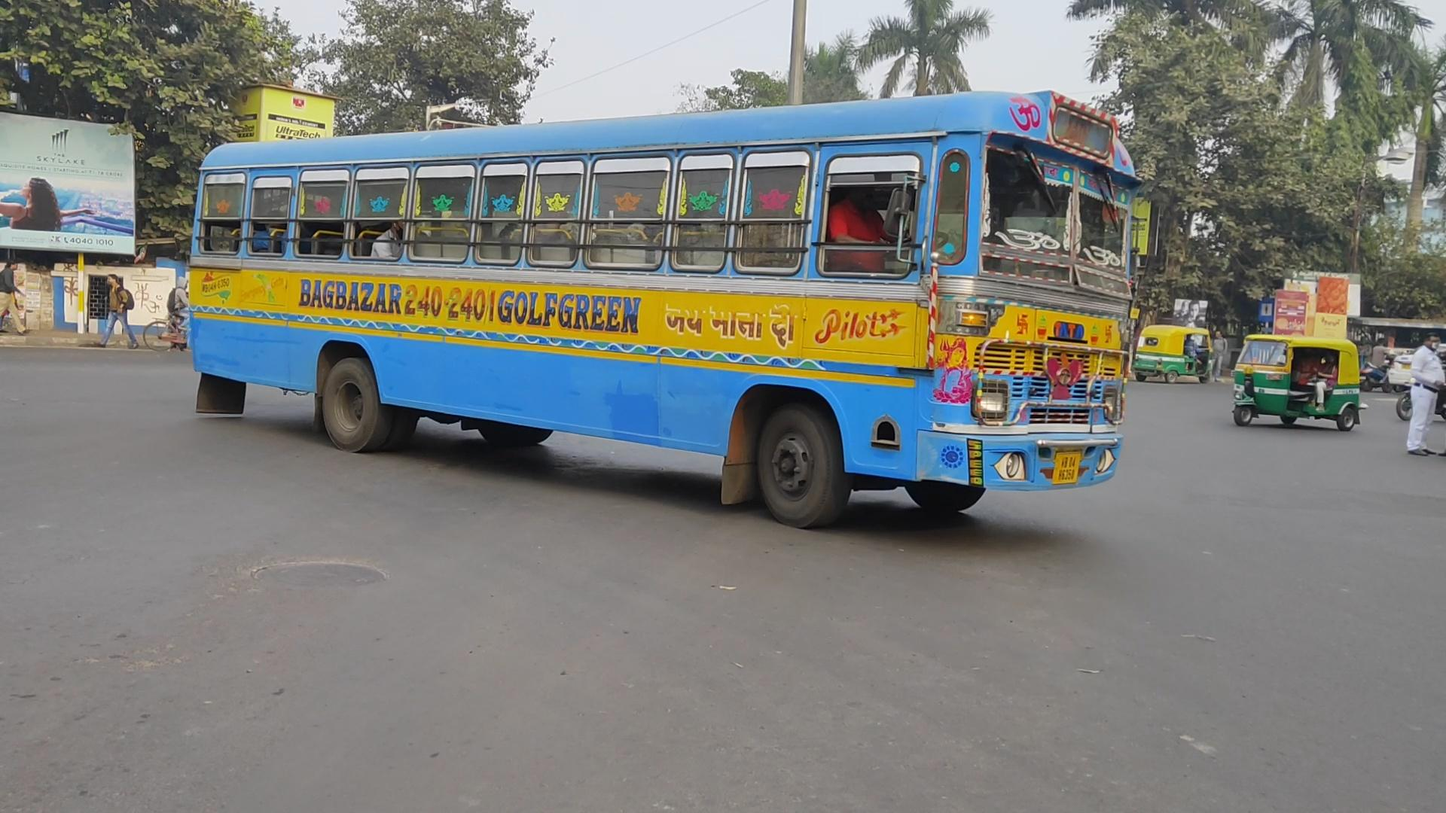Auto: (1231, 333, 1362, 432), (1134, 324, 1214, 385)
Bus: (186, 90, 1134, 531)
bike: (143, 276, 224, 353), (1359, 337, 1408, 394)
